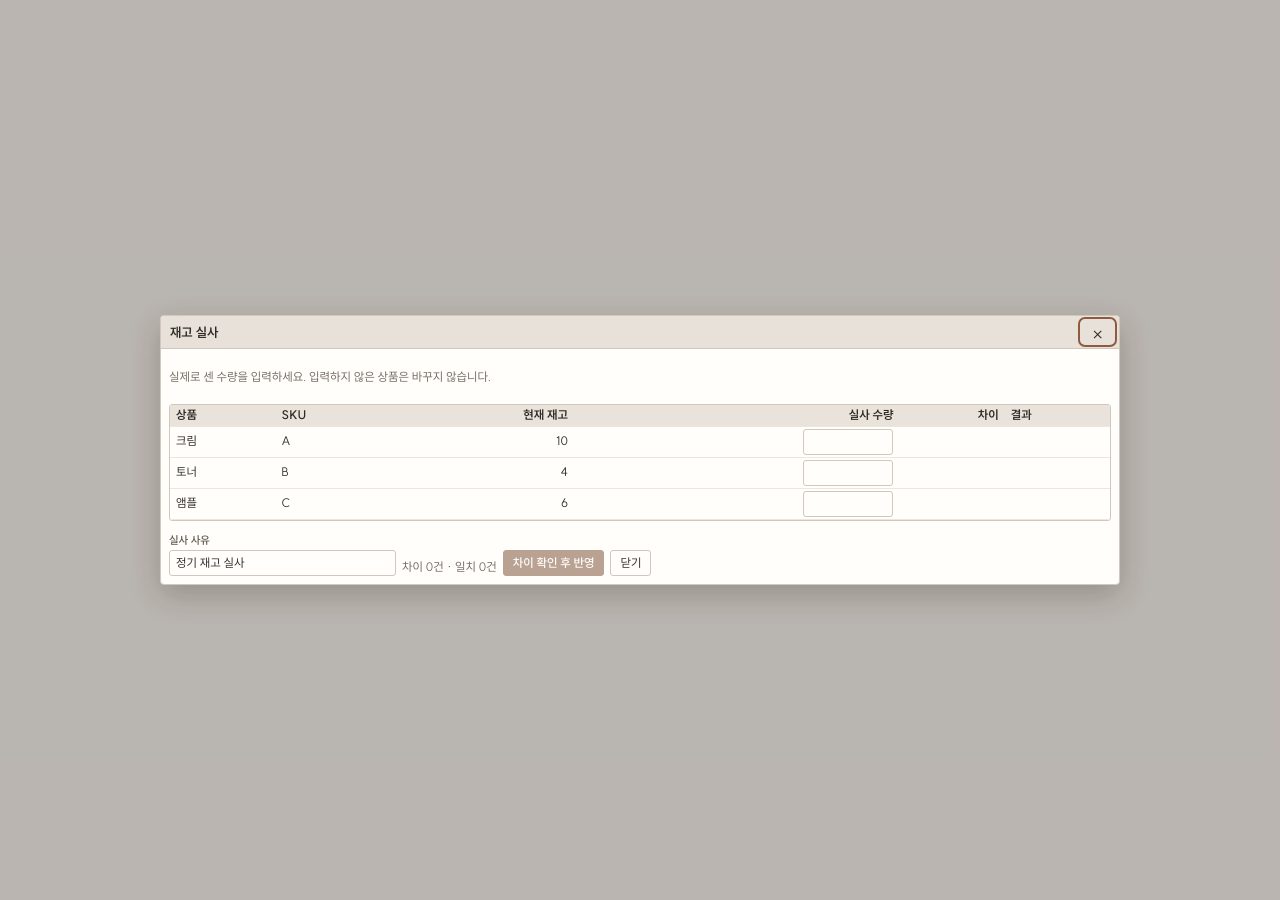
Test: StocktakeDialog › 입력한 수량의 차이를 표에 계산해 보여 주고 차이가 없으면 반영 버튼이 꺼져 있다
Expected: the button "차이 확인 후 반영" is disabled, [503,550,604,576]
Type "8" into the number field named "크림 실사 수량" at (848, 442), box [803,429,893,455]
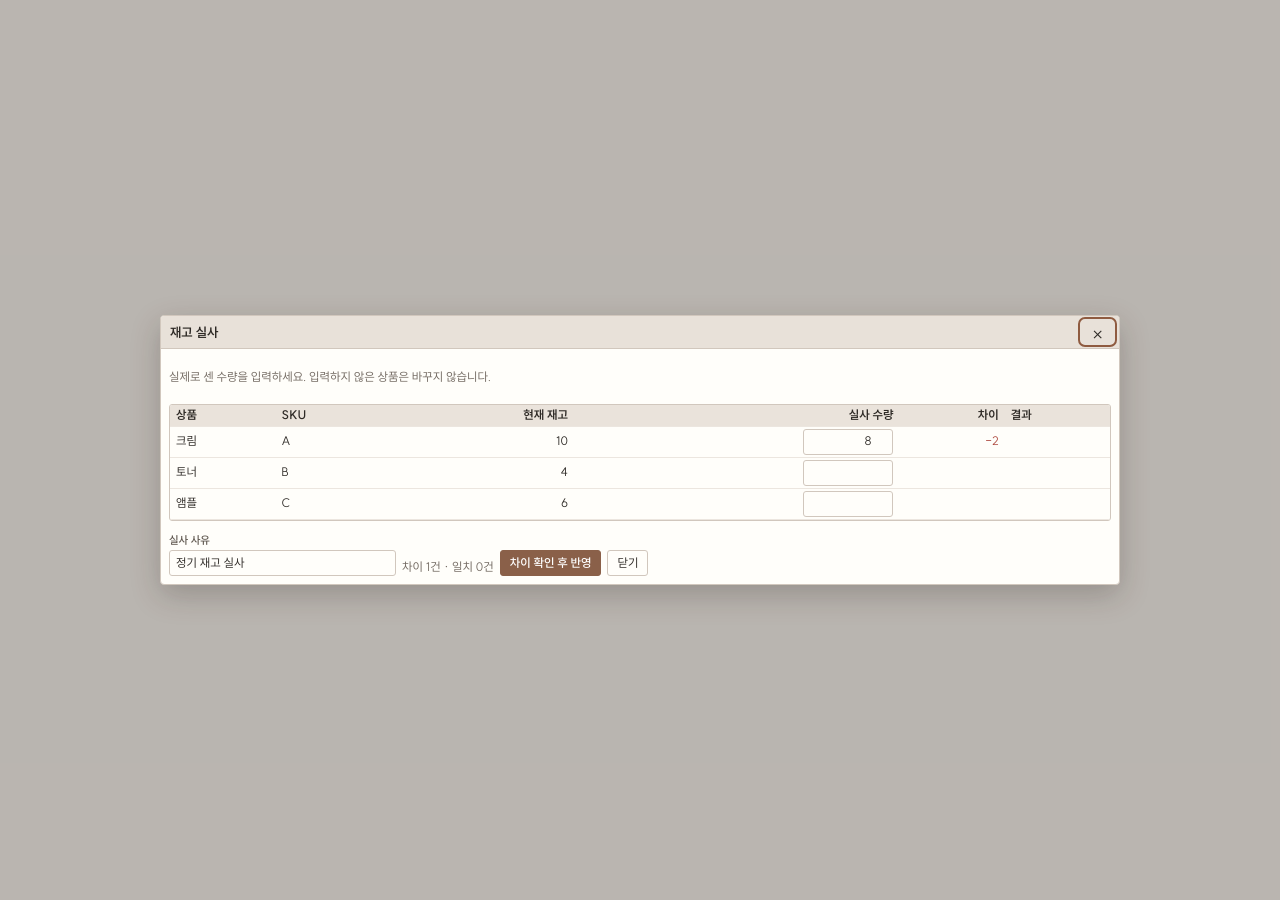
Type "4" into the number field named "토너 실사 수량" at (848, 473), box [803,460,893,486]
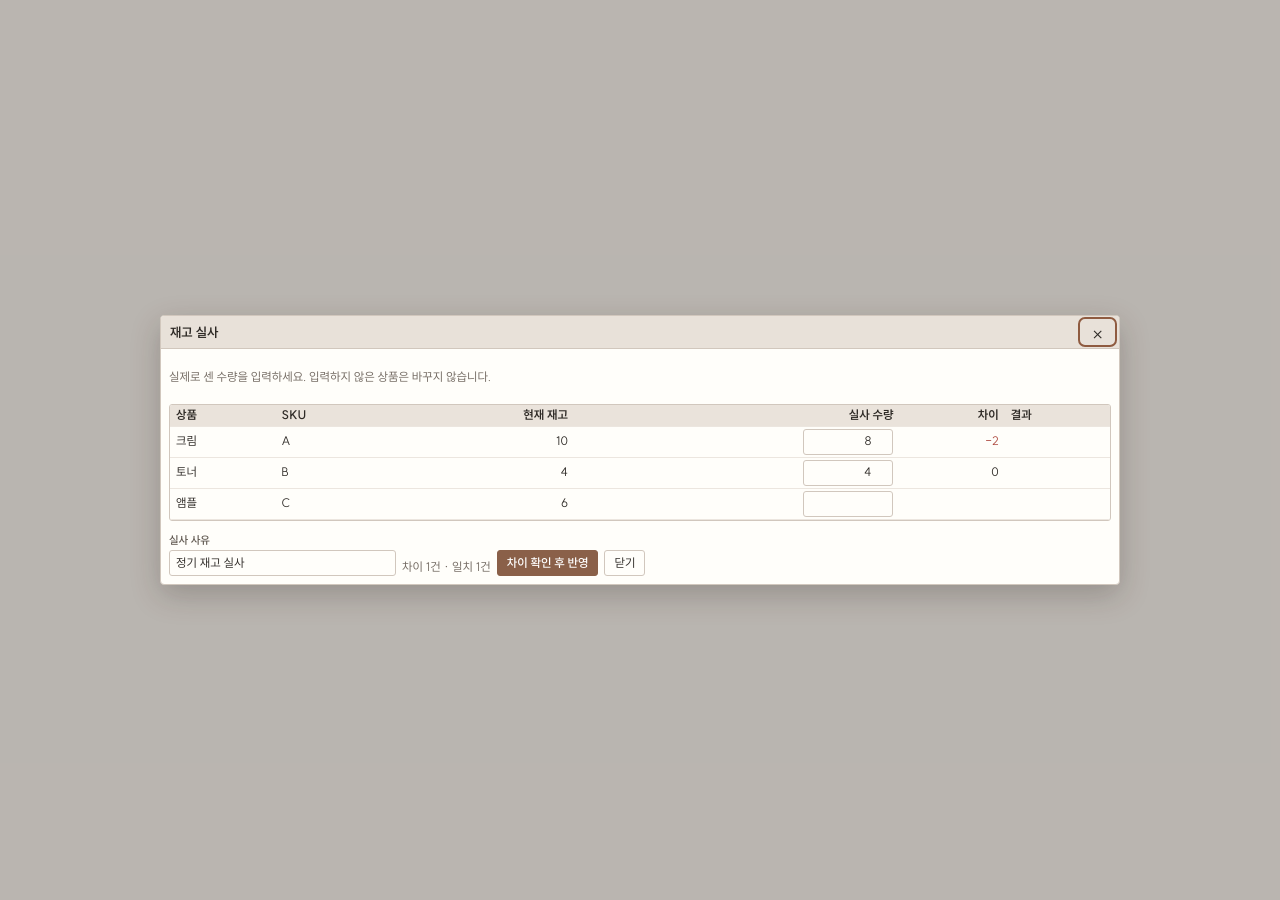
Expected: the text "-2" is shown, [899,426,1005,457]
Expected: the text "0" is shown, [899,457,1005,488]
Expected: the text "차이 1건 · 일치 1건" is shown, [402,559,491,576]
